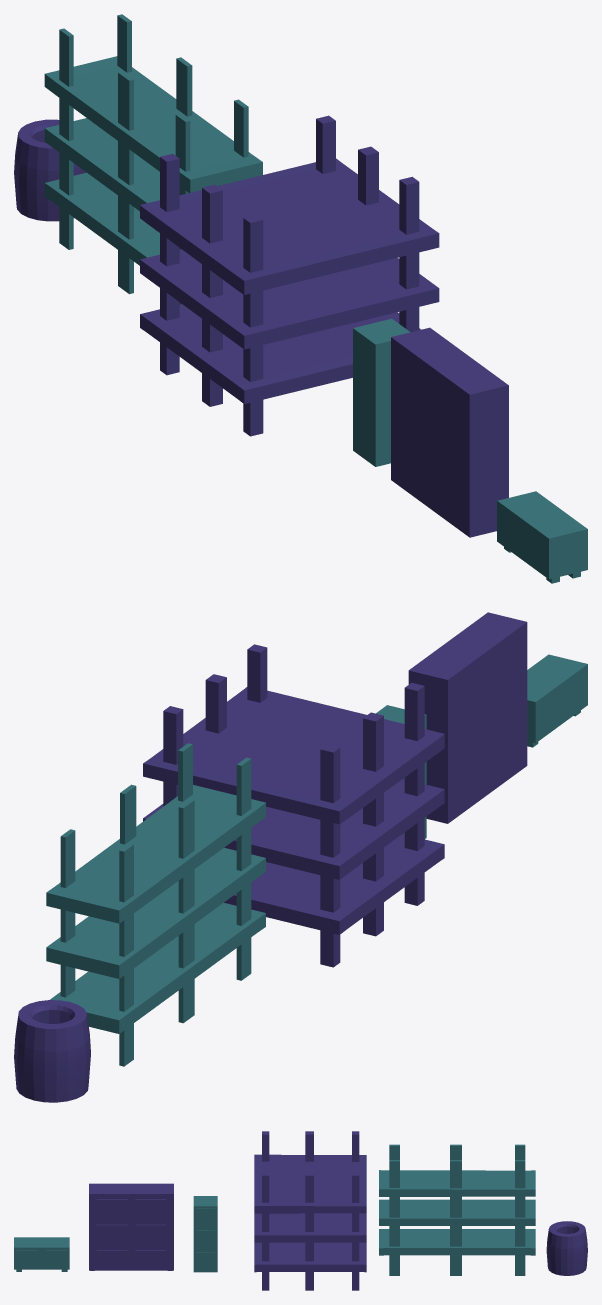
Rendered from Furniture.obj.
3 renders of one model, top to bottom at view 1: azimuth 30°, elevation 25°; view 2: azimuth 150°, elevation 25°; view 3: azimuth 270°, elevation 25°, orthographic. The views are drawn at different scales.
Visible parts, largest first — view 1: Pallet, Thin_Metal_Pallet, Double_Cabinet, Low_Drawers, Filing_Cabinet, Barrel_Container; view 2: Pallet, Thin_Metal_Pallet, Double_Cabinet, Barrel_Container, Low_Drawers; view 3: Thin_Metal_Pallet, Pallet, Double_Cabinet, Barrel_Container, Filing_Cabinet, Low_Drawers.
Part boxes in pixels (x1,y1,x2,y2): Pallet: (140, 115, 439, 436); Thin_Metal_Pallet: (44, 14, 262, 304); Double_Cabinet: (391, 327, 508, 537); Low_Drawers: (497, 491, 587, 583); Filing_Cabinet: (353, 318, 410, 466); Barrel_Container: (14, 119, 86, 221); Pallet: (143, 644, 444, 967); Thin_Metal_Pallet: (46, 743, 265, 1066); Double_Cabinet: (408, 612, 527, 823); Barrel_Container: (14, 1000, 90, 1102); Low_Drawers: (527, 654, 587, 747); Thin_Metal_Pallet: (379, 1144, 535, 1275); Pallet: (254, 1131, 366, 1290); Double_Cabinet: (89, 1183, 173, 1270); Barrel_Container: (546, 1221, 587, 1275); Filing_Cabinet: (193, 1196, 217, 1272); Low_Drawers: (14, 1237, 69, 1271).
Bounding box in the file's own units: 5 × 5.26 × 23.68.
